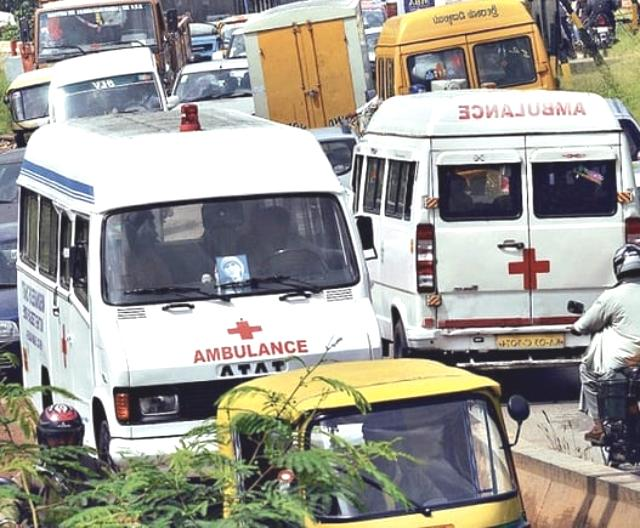ambulance: (17, 90, 385, 473), (344, 85, 640, 373)
